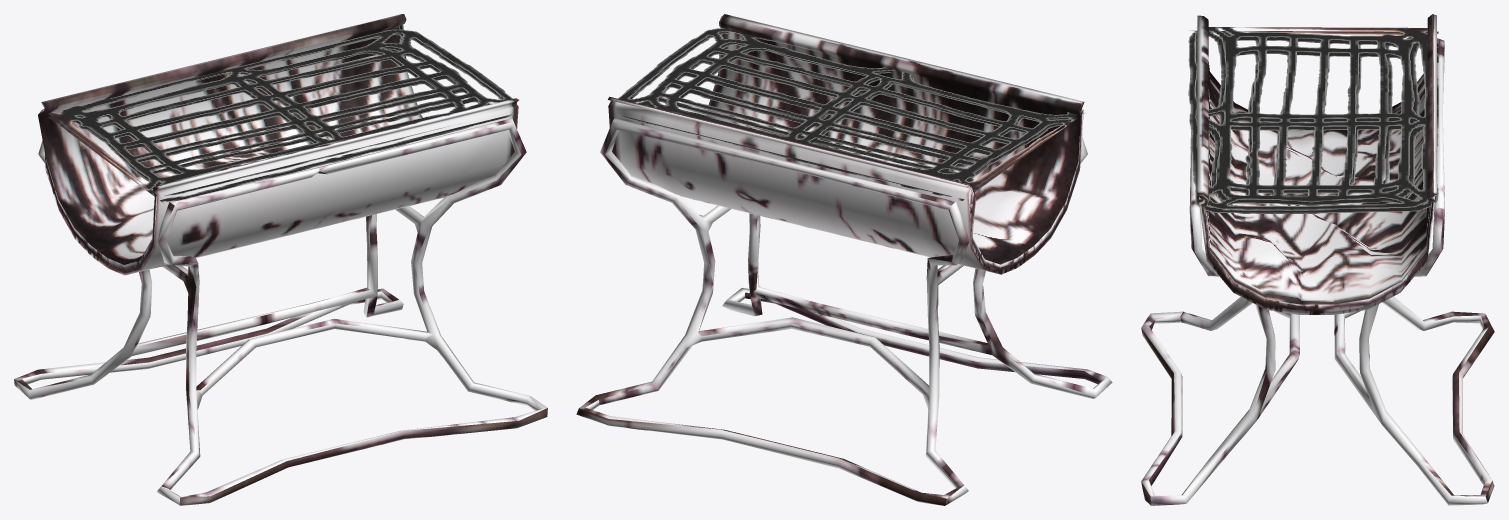
Rendered from Braai.fbx.
3 views of the same model, side by side, from view 1: azimuth 30°, elevation 25°; view 2: azimuth 150°, elevation 25°; view 3: azimuth 270°, elevation 25° (orthographic). The views are drawn at different scales.
Visible parts, largest first — view 1: Braai; view 2: Braai; view 3: Braai.
Boxes of the visible parts, <box> form: Braai: <box>14,14,547,505</box>; Braai: <box>576,14,1112,505</box>; Braai: <box>1141,14,1494,505</box>.
Size of the model in its own units: 181 by 138 by 142.
Materials: 1 (1 with a texture image).
